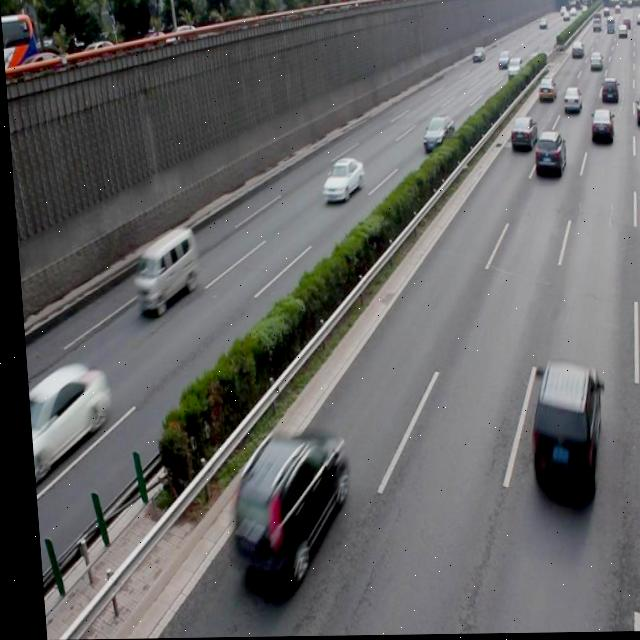car: (220, 426, 345, 582), (21, 364, 109, 486), (517, 359, 598, 488), (317, 158, 361, 202), (527, 132, 564, 180)
truck: (126, 226, 200, 317)
